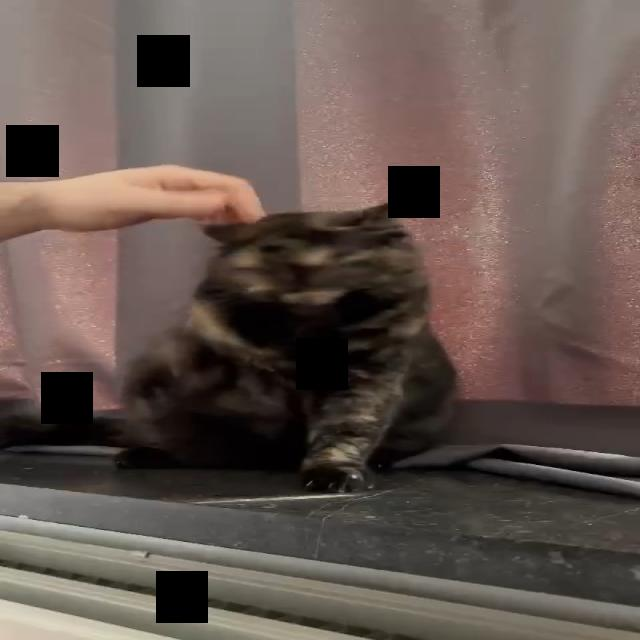authorized: (1, 200, 460, 493)
